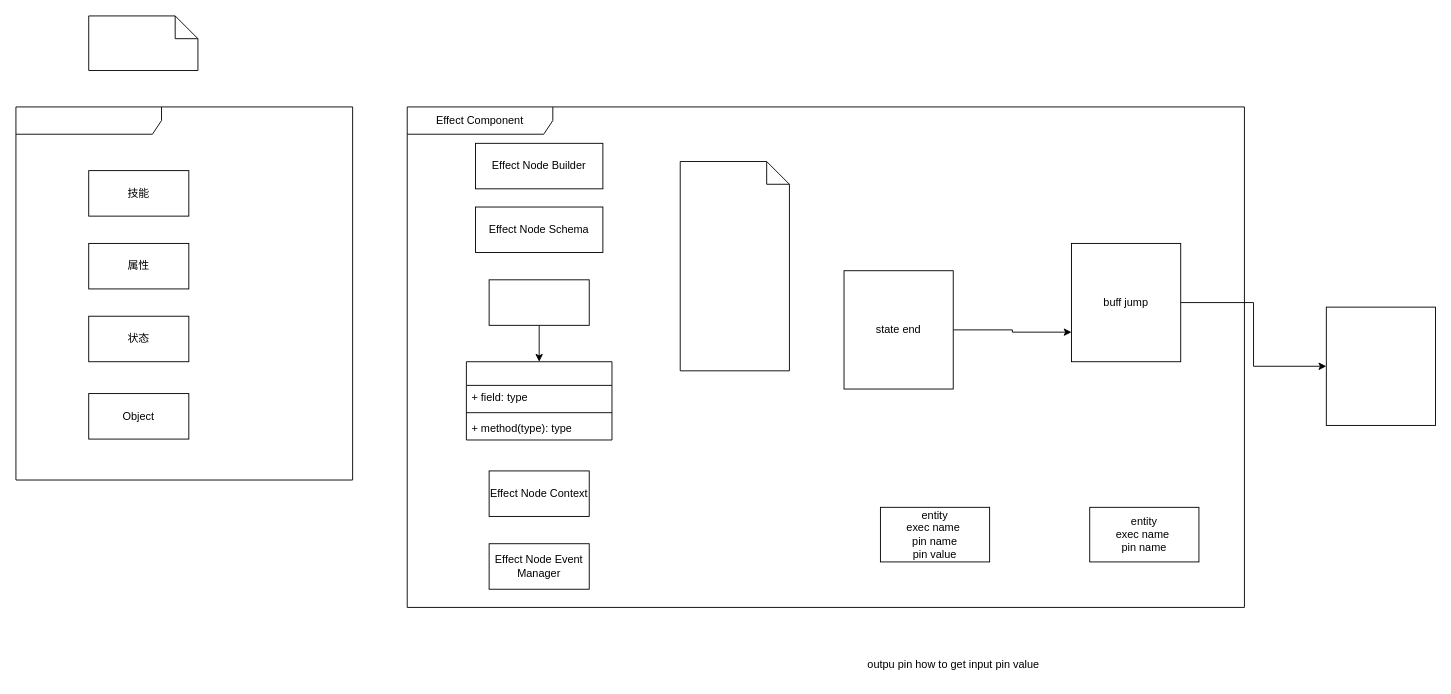
Some shapes in this 1451 by 694 pixel diagram are drawn without their labels. Each missing label, with the box of its shape:
EffectLifeNode Trait: (465, 361, 612, 440)
EffectNode trait: (488, 279, 589, 325)
EffectNodePools: (88, 15, 198, 71)
get loop index: (1325, 306, 1436, 425)
node 中引用其他组件。例如另一个组件。总可以通过entity进行查询。 使用guid或者entity或者自增id，来表示Node 的Id: (679, 161, 789, 371)
组件: (15, 106, 353, 480)
